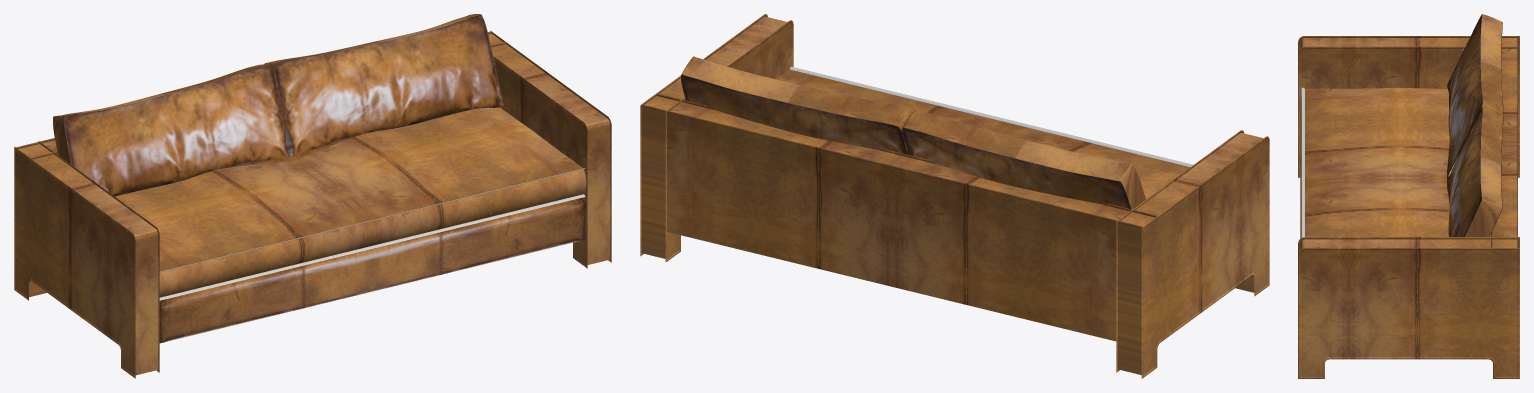
Rendered from Buffalo-sofa.gltf.
3 views of the same model, side by side, from view 1: azimuth 30°, elevation 25°; view 2: azimuth 150°, elevation 25°; view 3: azimuth 270°, elevation 25° (orthographic). The views are drawn at different scales.
Parts seen in each view (by area): view 1: root; view 2: root; view 3: root.
Part boxes in pixels (x1=…): root: x1=14, y1=14, x2=611, y2=378; root: x1=640, y1=14, x2=1269, y2=378; root: x1=1298, y1=14, x2=1519, y2=378.
Bounding box in the file's own units: 2.15 × 0.7917 × 0.95.
Materials: 4 (3 with a texture image).
